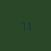one: (25, 20, 30, 30)
seven: (19, 20, 24, 31)
